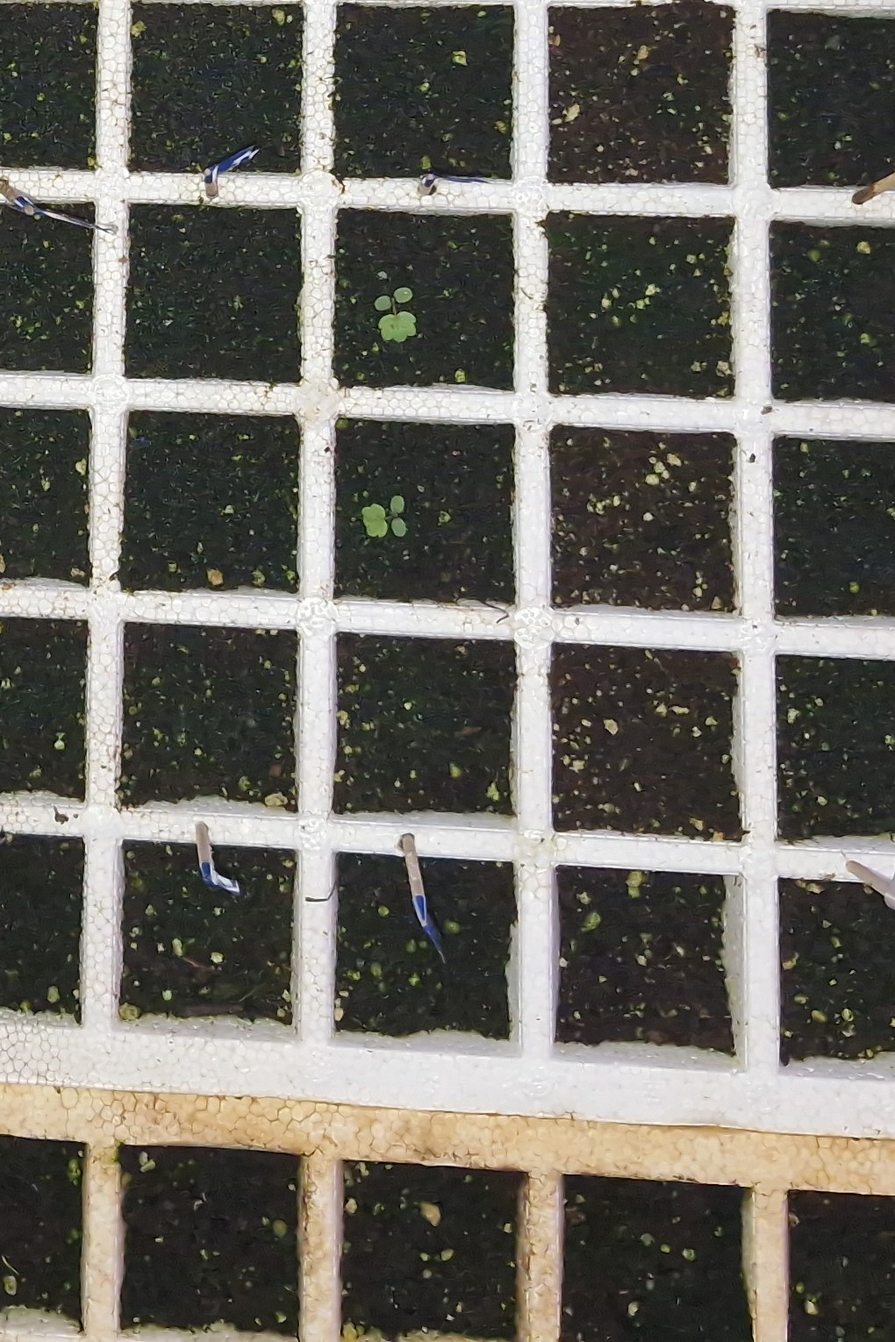Folha: (379, 312, 416, 341), (361, 503, 387, 538), (392, 518, 406, 537), (394, 288, 412, 302), (375, 296, 391, 310), (391, 496, 404, 512)
Germinacao: (374, 288, 416, 341), (361, 496, 406, 537)
